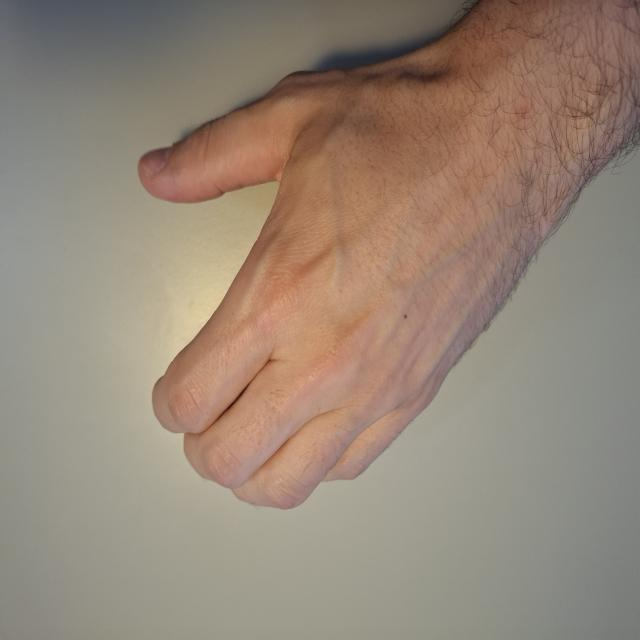glove_off: (136, 8, 595, 516)
